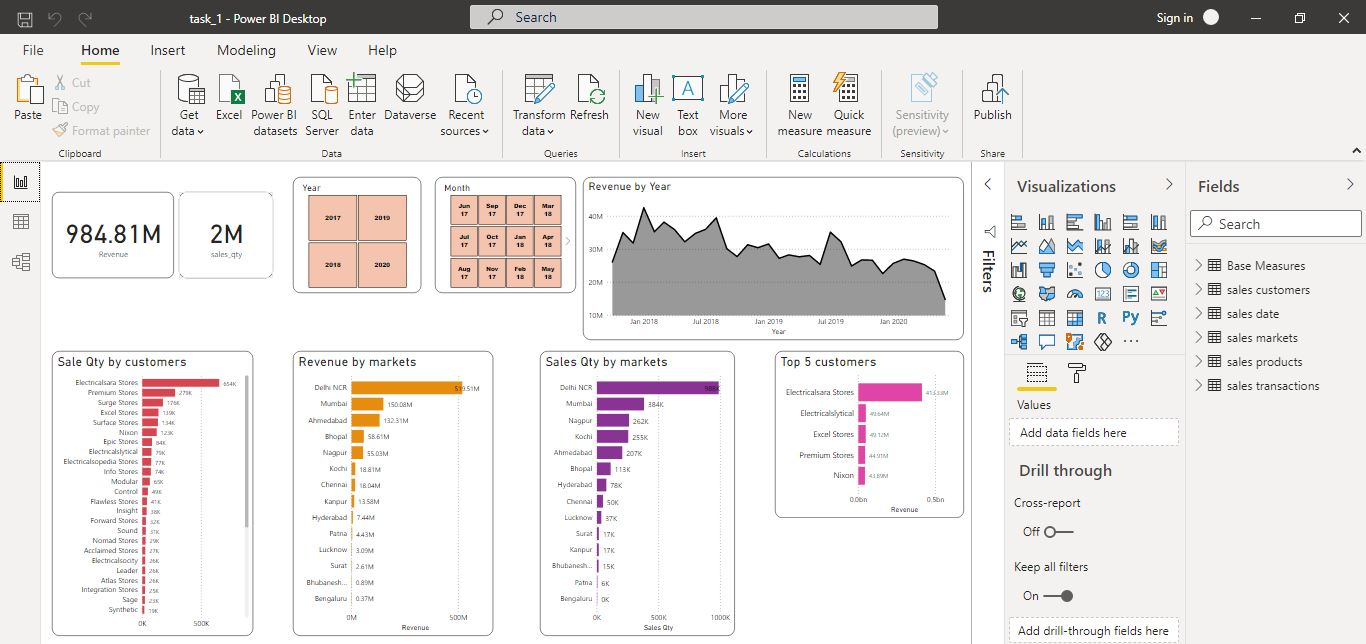

Layout of this report page (visuals, bound fields, positions):
{"tool":"powerbi","page":{"name":"Sale_insights","canvas":[1900,1000],"ordinal":0},"visuals":[{"type":"card","fields":{"Values":["Base Measures.Revenue"]},"box":[22.5,61.3,249.2,175.7],"z":0},{"type":"card","fields":{"Values":["Sum(sales transactions.sales_qty)"]},"box":[281.9,61.3,192,175.7],"z":1},{"type":"barChart","title":"Sale Qty by customers","fields":{"Category":["sales customers.custmer_name"],"Y":["Sum(sales transactions.sales_qty)"]},"box":[22.5,386.1,410.6,582.3],"z":3},{"type":"barChart","title":"Revenue by markets","fields":{"Y":["Base Measures.Revenue"],"Category":["sales markets.markets_name"]},"box":[514.8,386.1,408.6,582.3],"z":6},{"type":"barChart","title":"Sales Qty by markets","fields":{"Category":["sales markets.markets_name"],"Y":["Base Measures.Sales Qty"]},"box":[1019.5,386.1,398.4,582.3],"z":7},{"type":"barChart","title":"Top 5 customers","fields":{"Y":["Base Measures.Revenue"],"Category":["sales customers.custmer_name"]},"box":[1499.6,386.1,386.1,341.2],"z":8},{"type":"slicer","fields":{"Values":["sales date.year"]},"box":[514.8,30.6,261.5,237],"z":9},{"type":"slicer","fields":{"Values":["sales date.cy_date"]},"box":[804.9,30.6,288.1,237],"z":10},{"type":"areaChart","title":"Revenue by Year","fields":{"Category":["sales date.cy_date"],"Y":["Base Measures.Revenue"]},"box":[1107.3,30.6,778.4,333],"z":11},{"type":"textbox","box":[1500,727,386,241],"z":12}]}

Visuals, with their boxes on the page's 1900x1000 design canvas (x1, y1, x2, y2). These are canvas units, not pixel positions in the 1366x644 screenshot, which may show the page scaled, cropped or inside an application window:
card - Base Measures.Revenue: <box>22,61,272,237</box>
card - Sum(sales transactions.sales_qty): <box>282,61,474,237</box>
"Sale Qty by customers" barChart: <box>22,386,433,968</box>
"Revenue by markets" barChart: <box>515,386,923,968</box>
"Sales Qty by markets" barChart: <box>1020,386,1418,968</box>
"Top 5 customers" barChart: <box>1500,386,1886,727</box>
slicer - sales date.year: <box>515,31,776,268</box>
slicer - sales date.cy_date: <box>805,31,1093,268</box>
"Revenue by Year" areaChart: <box>1107,31,1886,364</box>
textbox: <box>1500,727,1886,968</box>
